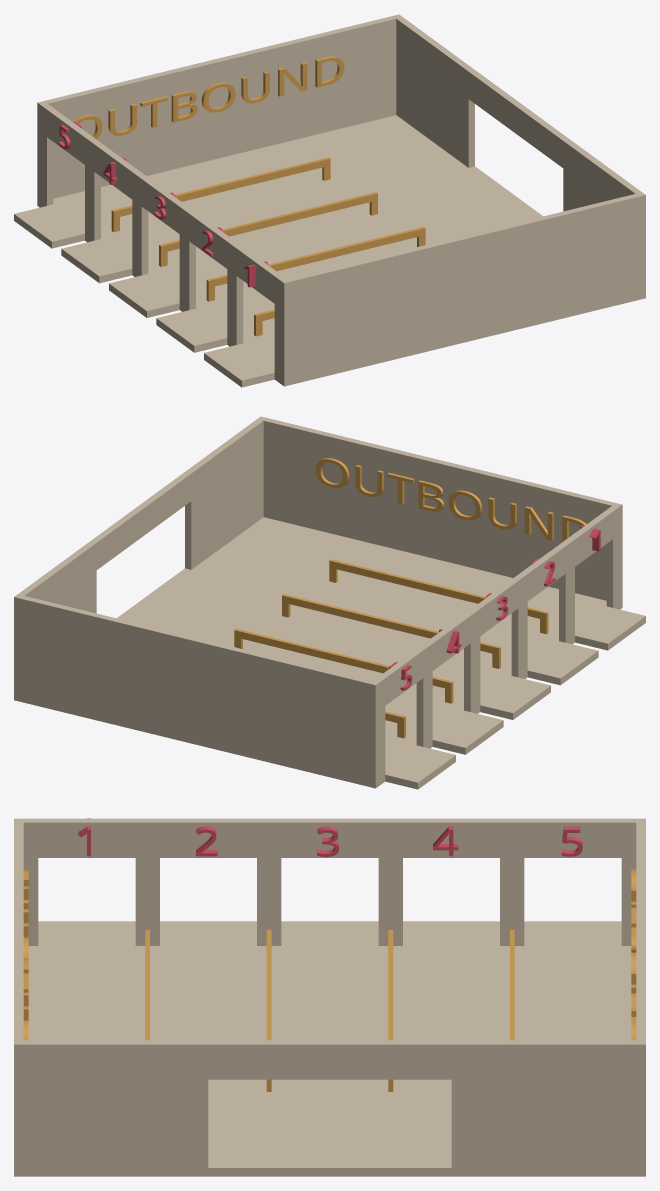
The model's file is CrossDock-Outbound.glb.
3 views of the same model, one above another, from view 1: azimuth 30°, elevation 25°; view 2: azimuth 150°, elevation 25°; view 3: azimuth 270°, elevation 25° (orthographic). The views are drawn at different scales.
Parts seen in each view (by area): view 1: Mesh_Mesh_head_geo.001_lambert2SG.001; view 2: Mesh_Mesh_head_geo.001_lambert2SG.001; view 3: Mesh_Mesh_head_geo.001_lambert2SG.001.
Boxes of the visible parts, x1,y1,x2,y2 form: Mesh_Mesh_head_geo.001_lambert2SG.001: (14, 14, 645, 387); Mesh_Mesh_head_geo.001_lambert2SG.001: (14, 416, 645, 789); Mesh_Mesh_head_geo.001_lambert2SG.001: (14, 818, 645, 1176).
Size of the model in its own units: 120 by 30 by 130.
